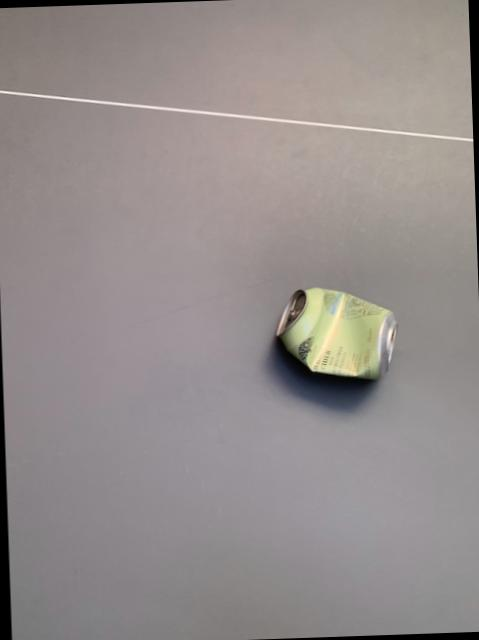metal: (274, 287, 395, 378)
